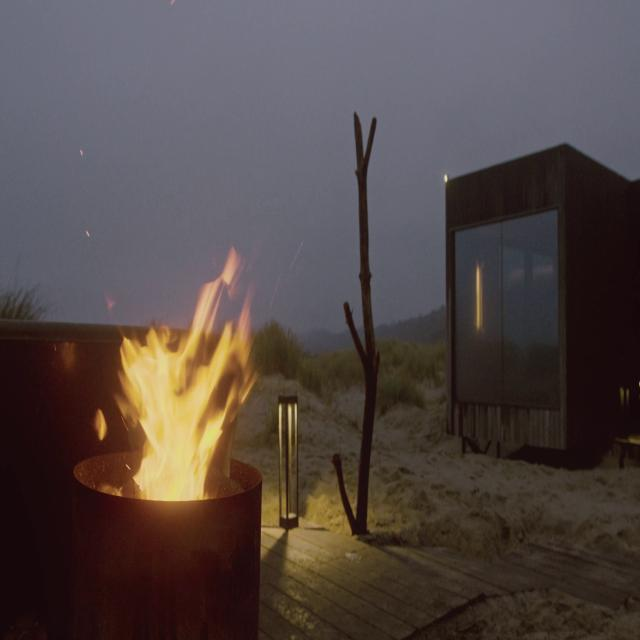Fire: (106, 242, 262, 508)
